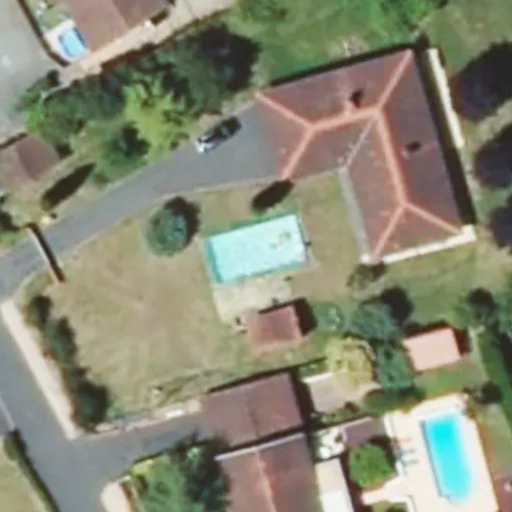pool: (198, 228, 311, 254)
